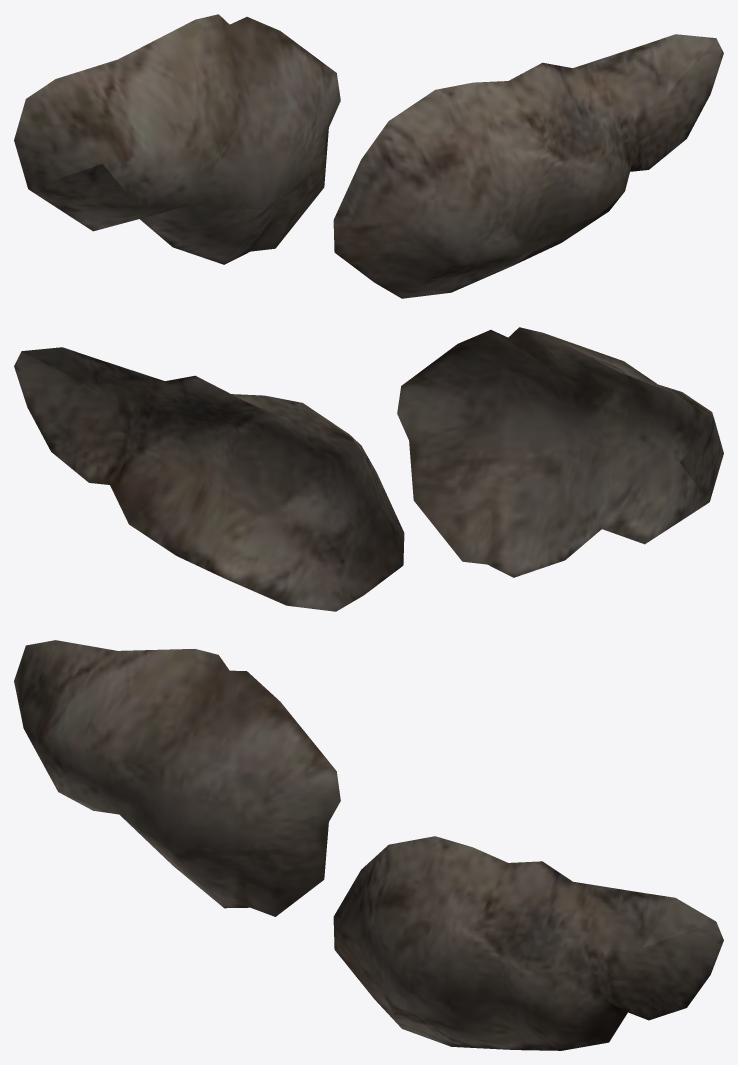
The model's file is prop_toujane_roadrock10.glb.
3 renders of one model, top to bottom at view 1: azimuth 30°, elevation 25°; view 2: azimuth 150°, elevation 25°; view 3: azimuth 330°, elevation 25°, orthographic.
Size of the model in its own units: 34.79 by 15.71 by 4.25.
1 material, 1 textured.
